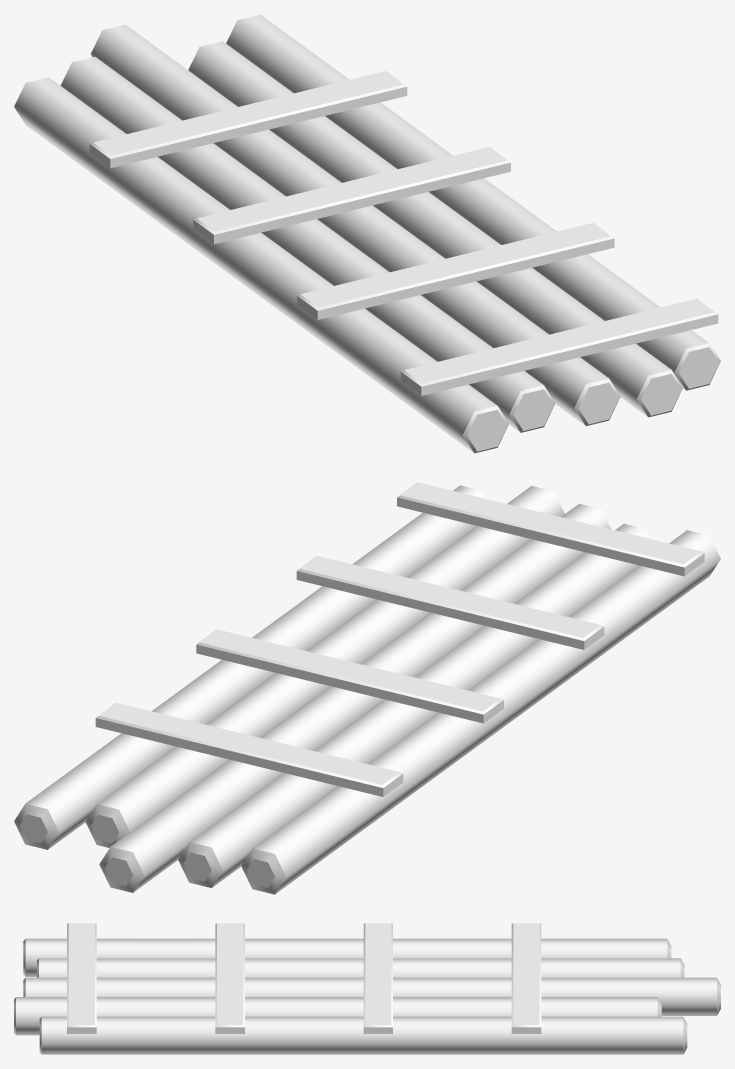
File: wooden_path01.fbx
The picture shows the model from 3 angles, top to bottom: view 1: azimuth 30°, elevation 25°; view 2: azimuth 150°, elevation 25°; view 3: azimuth 270°, elevation 25°; orthographic projection. The views are drawn at different scales.
Visible parts, largest first — view 1: wooden_path03; view 2: wooden_path03; view 3: wooden_path03.
Boxes of the visible parts, bbox=[...] form: wooden_path03: bbox=[14, 14, 720, 453]; wooden_path03: bbox=[14, 482, 720, 894]; wooden_path03: bbox=[14, 923, 720, 1054].
Size of the model in its own units: 16.86 by 2.89 by 48.65.
